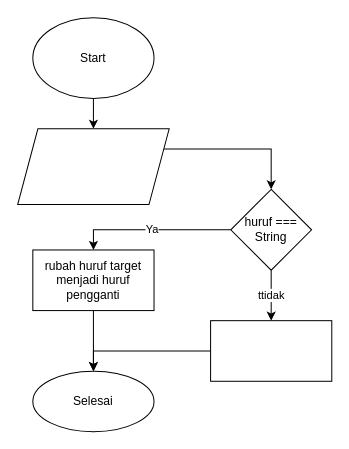
Image size: 349x449. Some labels were removed from this diagram. The shapes that lost their labels are listed below. From the top down, each one's box as (x1, y1, x2, y2) in pixels, then its label:
(17, 128, 169, 205): Masukkan kalimat, target huruf diganti, huruf pengganti
(210, 320, 332, 381): Bukan string
